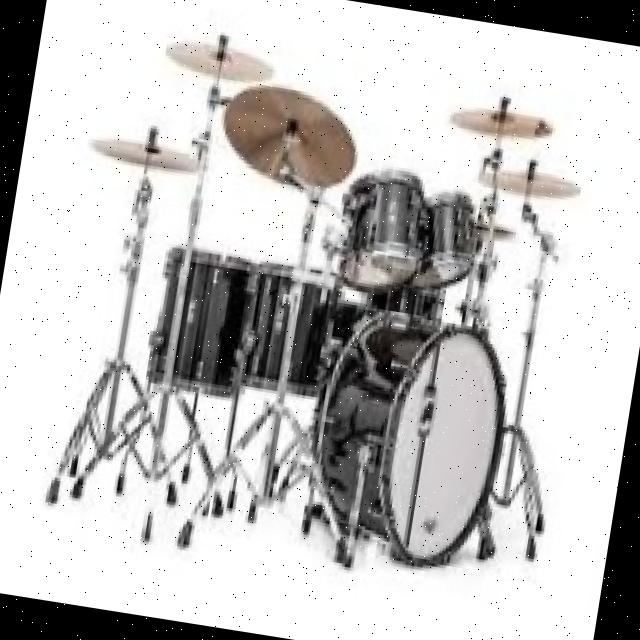drums: (30, 12, 620, 610)
